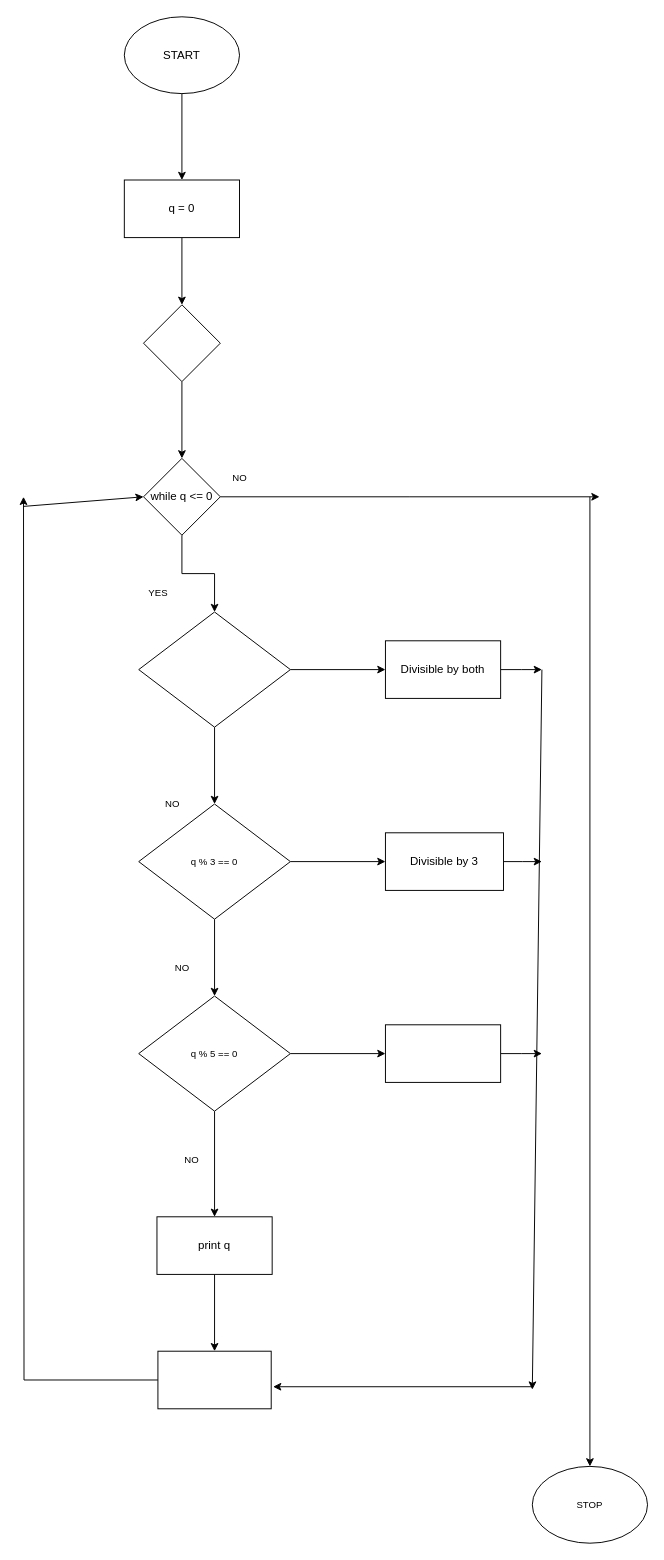
This 664x1560 diagram has some shape labels left out. Each missing label, with the centre of its shape:
"Divisible by 5" goes at pixel 442 1053.
"q % 3 == 0 and q % 5 ==0" goes at pixel 214 669.
"q = q + 1" goes at pixel 214 1379.
"while q <= 50" goes at pixel 181 343.
